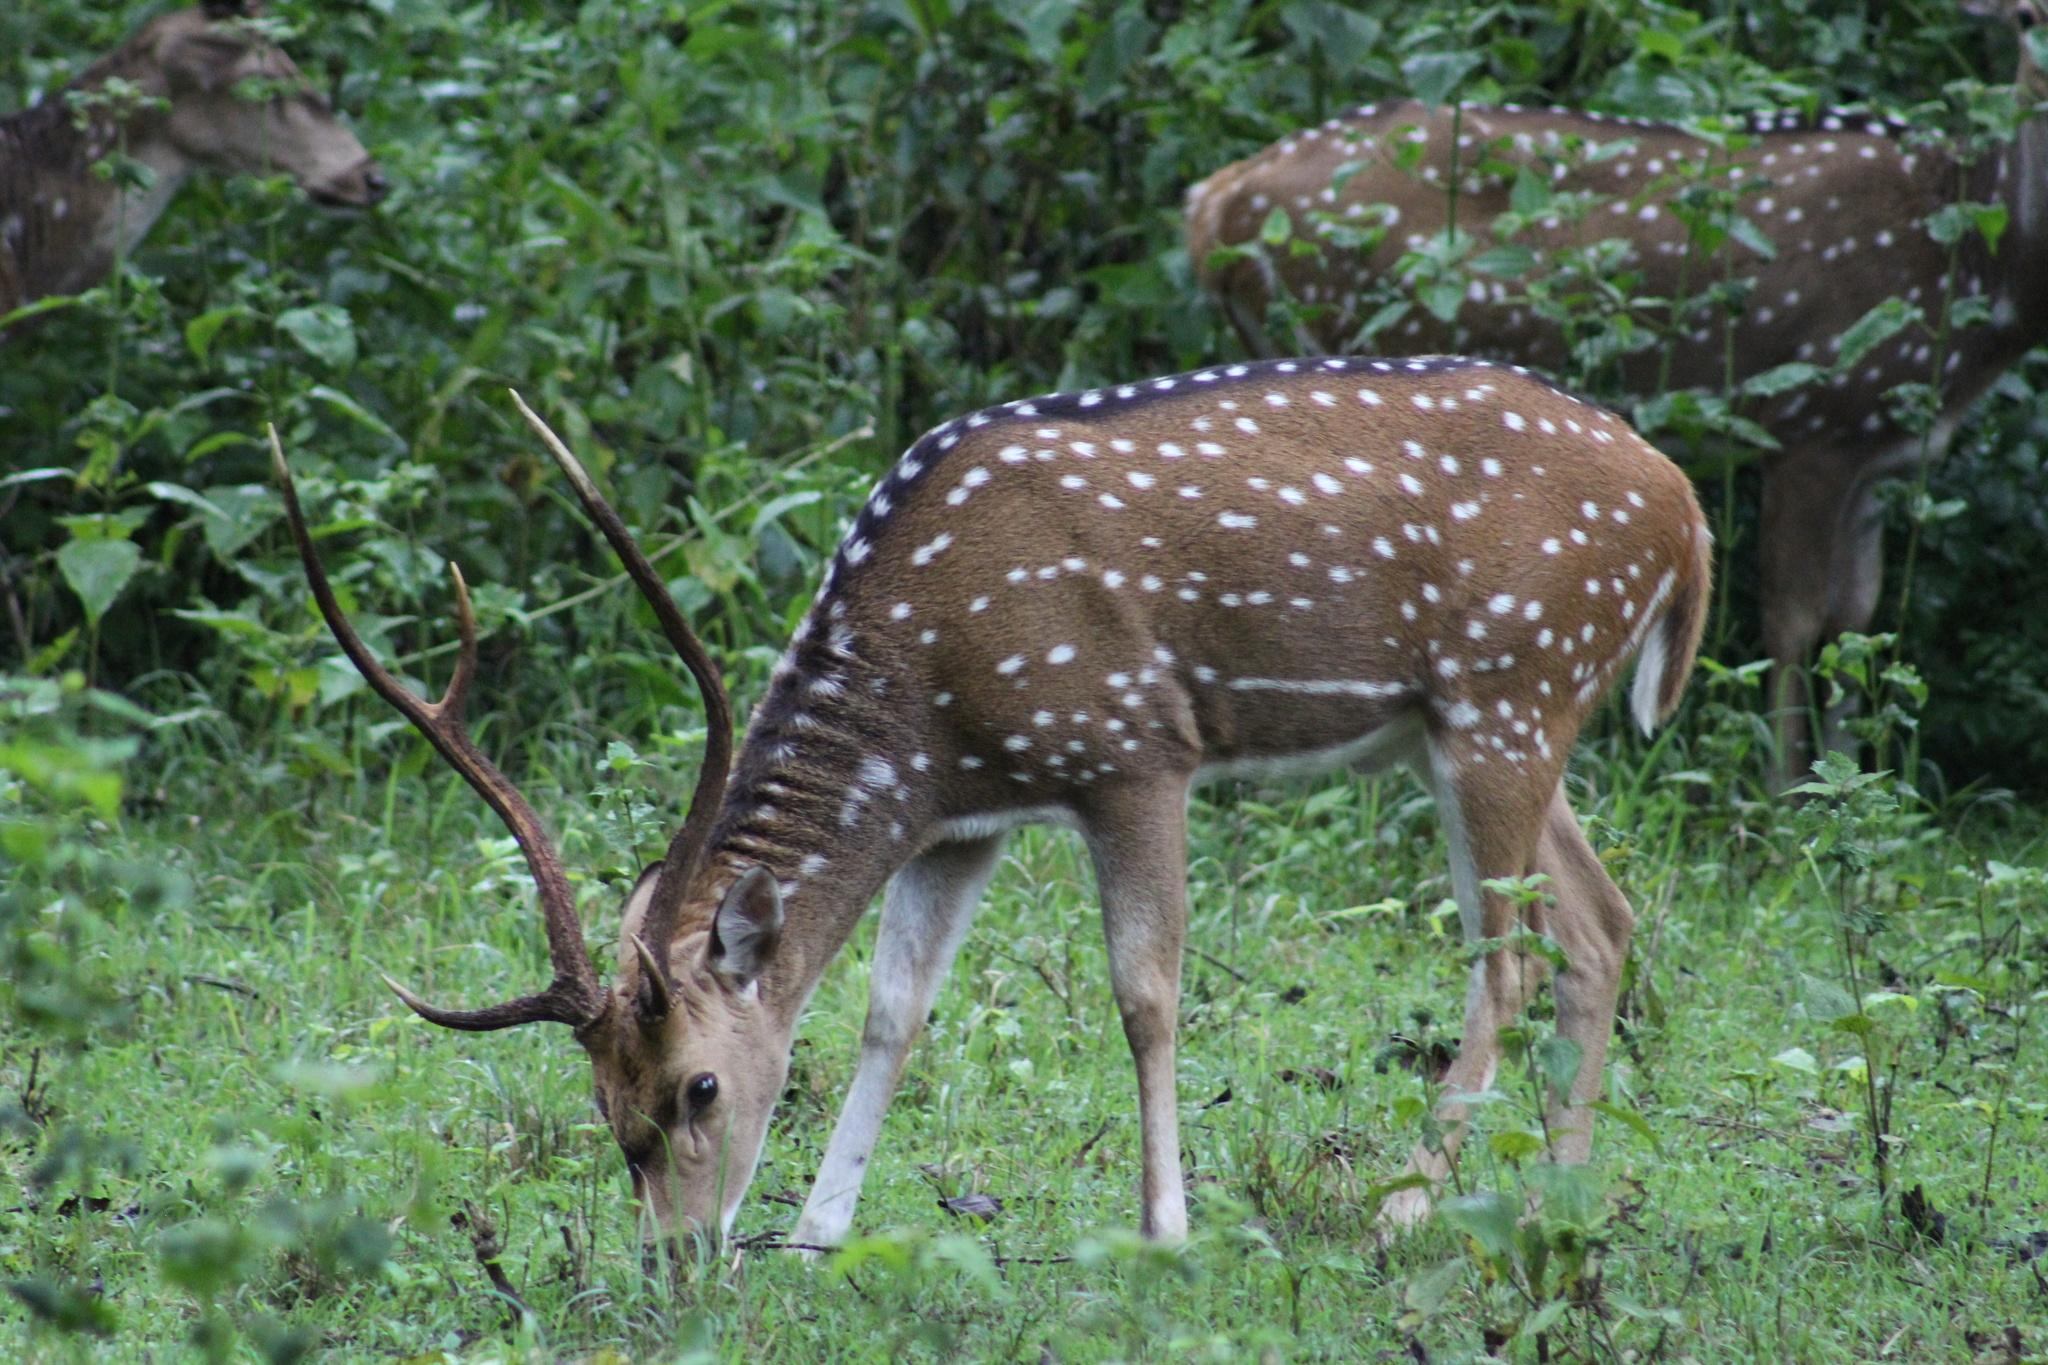Deer: (273, 358, 1708, 1249), (1185, 101, 2046, 443), (0, 5, 381, 312)
